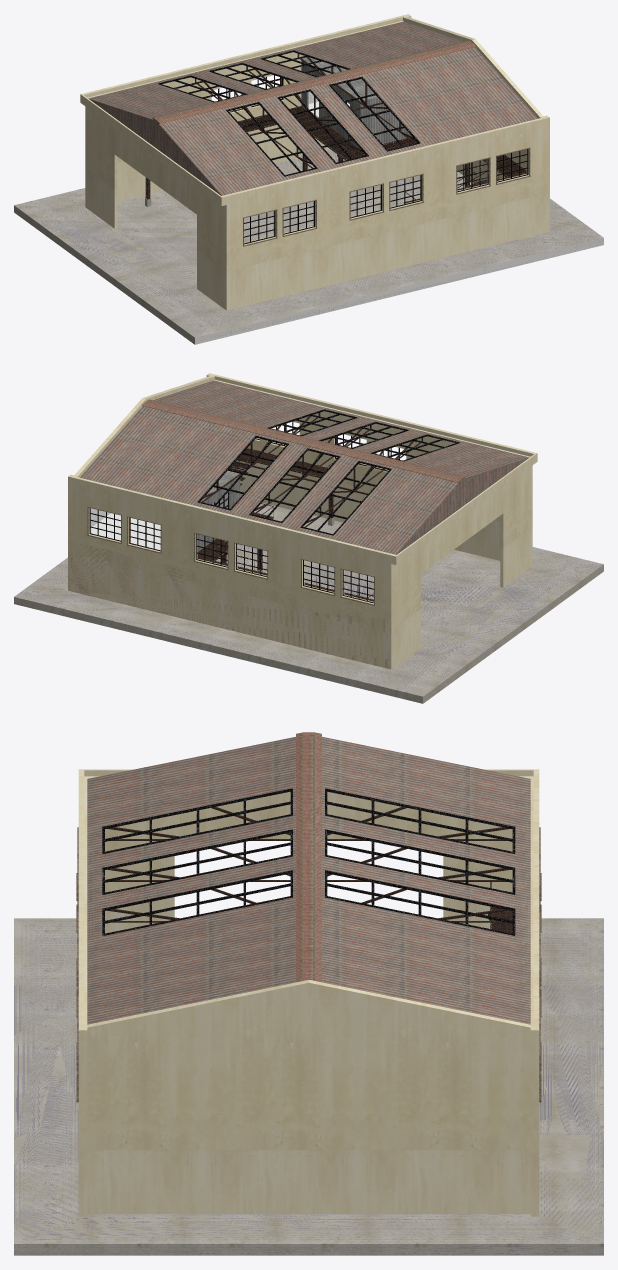
The picture shows the model from 3 angles, top to bottom: view 1: azimuth 30°, elevation 25°; view 2: azimuth 150°, elevation 25°; view 3: azimuth 270°, elevation 25°; orthographic projection. The views are drawn at different scales.
Parts seen in each view (by area): view 1: SketchUp (×9), group_1 (×3); view 2: SketchUp (×12), group_1 (×3); view 3: SketchUp (×6), group_1 (×12), support (×3).
Part boxes in pixels (x1=…): SketchUp (×9): x1=14, y1=14, x2=603, y2=344; group_1 (×3): x1=227, y1=77, x2=419, y2=175; SketchUp (×12): x1=14, y1=373, x2=603, y2=703; group_1 (×3): x1=198, y1=436, x2=390, y2=534; SketchUp (×6): x1=14, y1=732, x2=603, y2=1255; group_1 (×12): x1=102, y1=788, x2=515, y2=935; support (×3): x1=107, y1=807, x2=510, y2=922.
Bounding box in the file's own units: 1431 × 1097 × 498.
18 materials, 13 textured.
